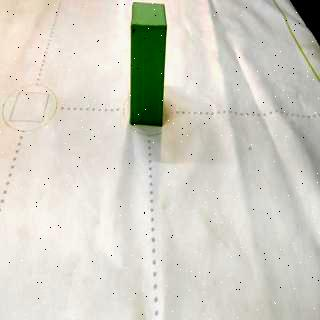greenbox: (130, 0, 168, 128)
